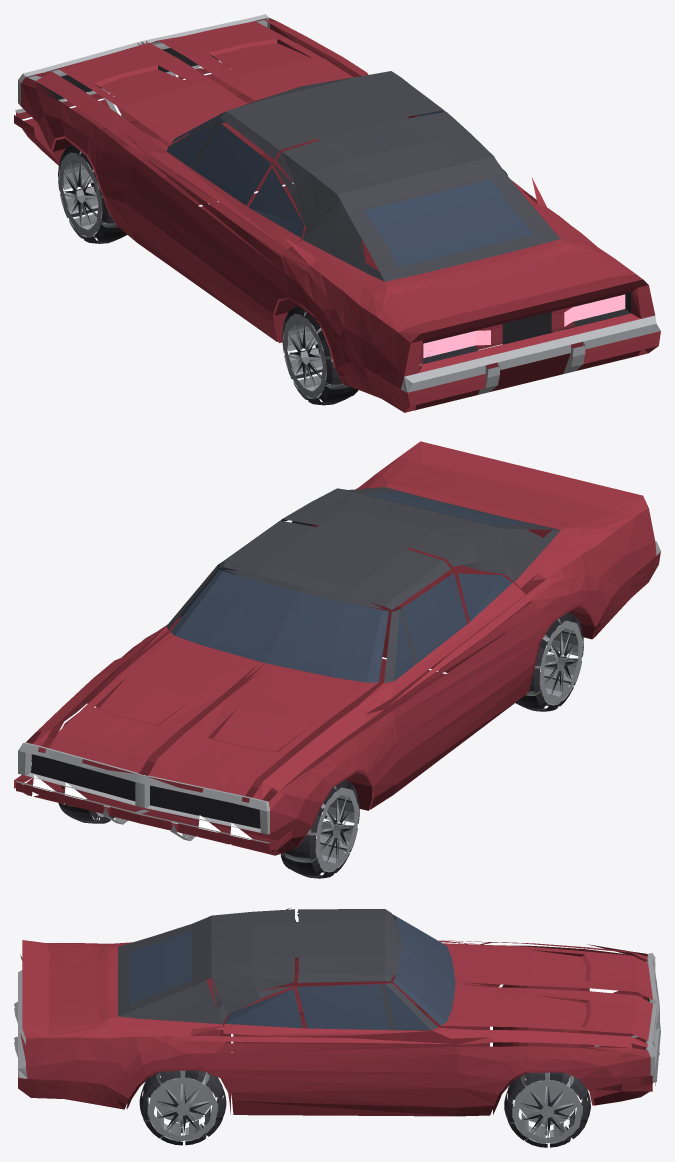
Rendered from car_muscle_crimson.glb.
The picture shows the model from 3 angles, top to bottom: view 1: azimuth 30°, elevation 25°; view 2: azimuth 150°, elevation 25°; view 3: azimuth 270°, elevation 25°; orthographic projection. The views are drawn at different scales.
Parts seen in each view (by area): view 1: car_muscle_crimson; view 2: car_muscle_crimson; view 3: car_muscle_crimson.
Boxes of the visible parts, x1=… form: car_muscle_crimson: x1=14, y1=14, x2=660, y2=412; car_muscle_crimson: x1=14, y1=441, x2=660, y2=878; car_muscle_crimson: x1=14, y1=908, x2=660, y2=1147.
Bounding box in the file's own units: 2.05 × 1.42 × 5.2.
